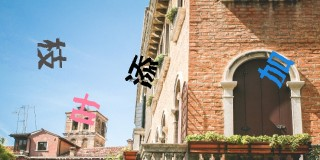加: (258, 51, 294, 88)
叶: (70, 93, 100, 124)
枝: (36, 37, 67, 70)
添: (125, 54, 158, 89)
